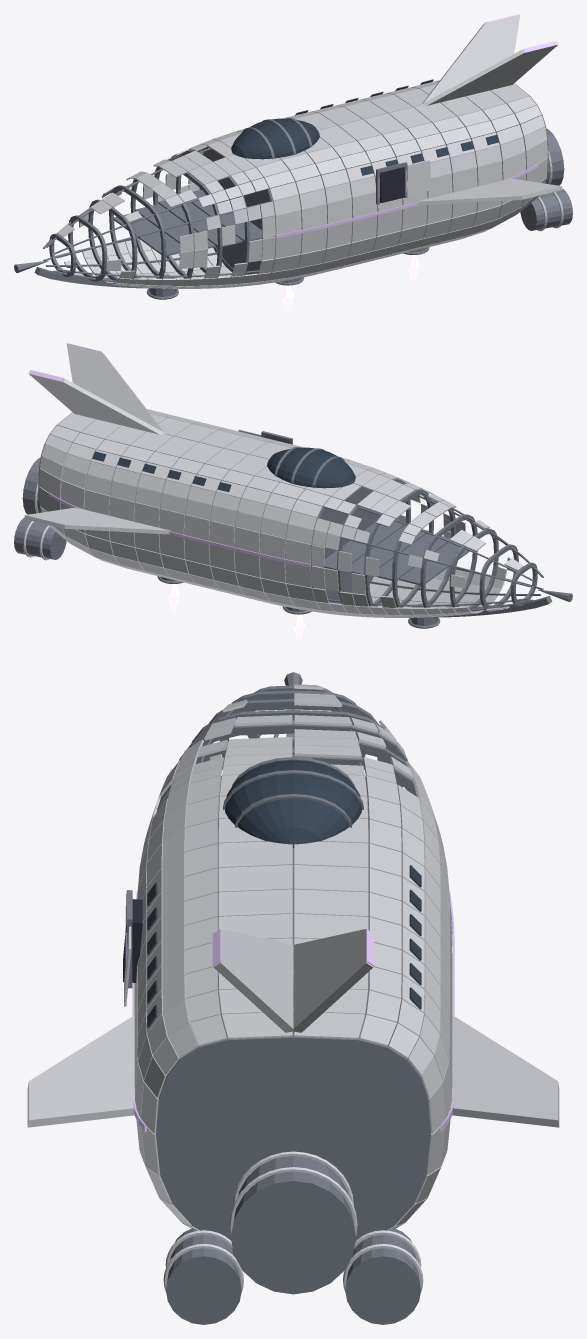
Rendered from VH_Nave_Estaleiro.fbx.
3 views of the same model, one above another, from view 1: azimuth 30°, elevation 25°; view 2: azimuth 150°, elevation 25°; view 3: azimuth 270°, elevation 25° (orthographic). The views are drawn at different scales.
Visible parts, largest first — view 1: VH_Nave_Estaleiro; view 2: VH_Nave_Estaleiro; view 3: VH_Nave_Estaleiro.
Boxes of the visible parts, <box> form: VH_Nave_Estaleiro: <box>14,14,572,314</box>; VH_Nave_Estaleiro: <box>14,343,572,643</box>; VH_Nave_Estaleiro: <box>27,672,559,1324</box>.
Size of the model in its own units: 42.5 by 17.26 by 18.38.
